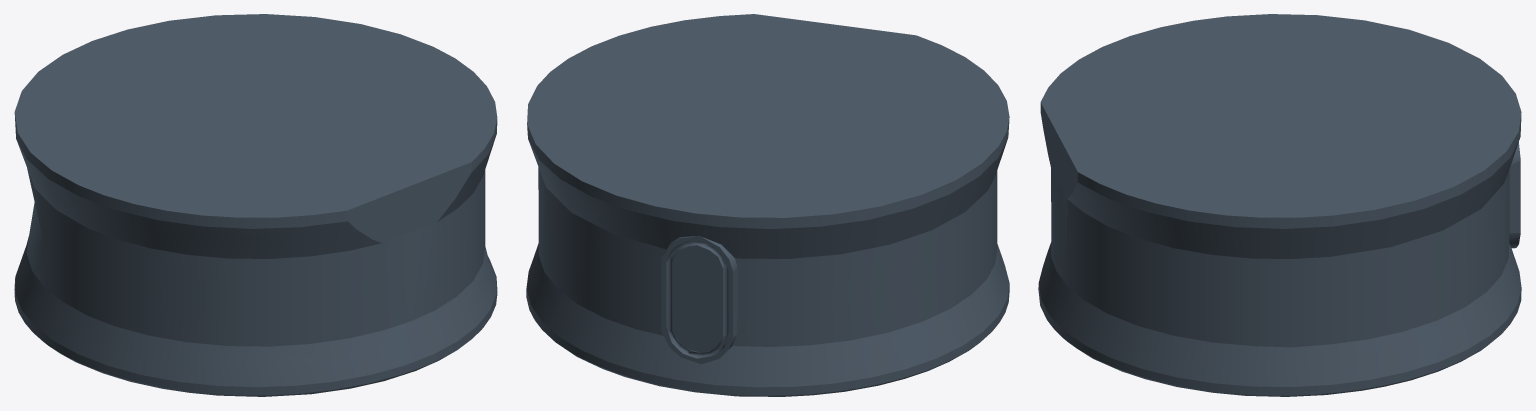
Rendered from fr_knee_2.obj.
3 views of the same model, side by side, from view 1: azimuth 30°, elevation 25°; view 2: azimuth 150°, elevation 25°; view 3: azimuth 270°, elevation 25° (orthographic).
Bounding box in the file's own units: 0.0806 × 0.0331 × 0.0805.
